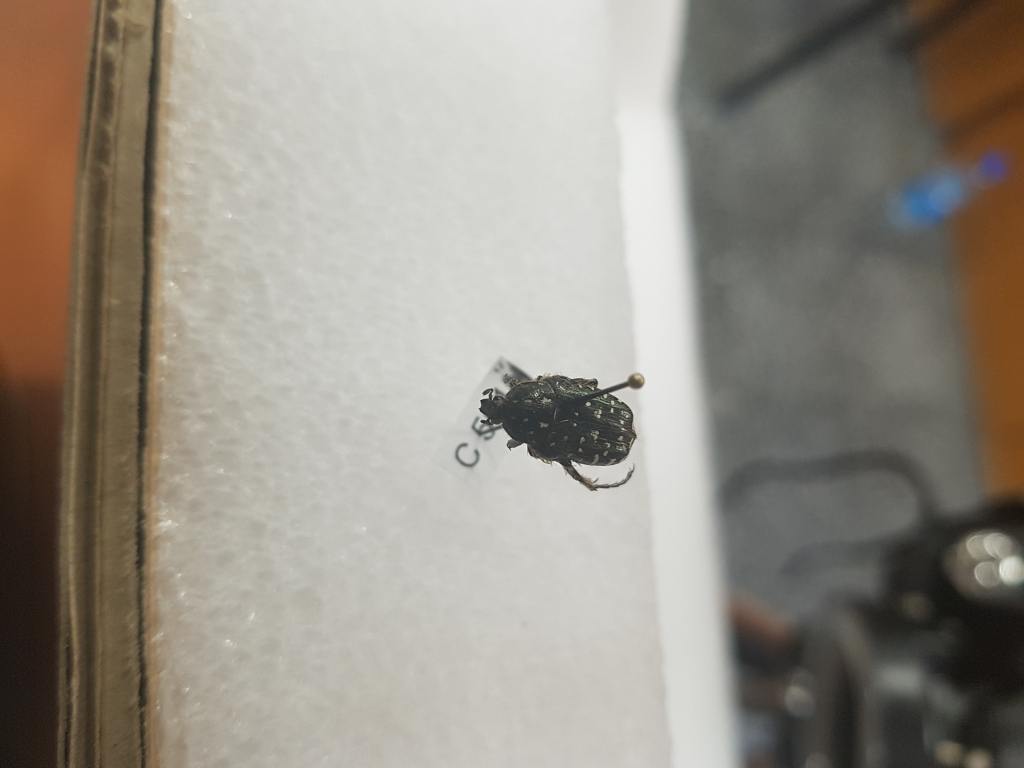Oxythyrea_funesta: (478, 363, 646, 492)
